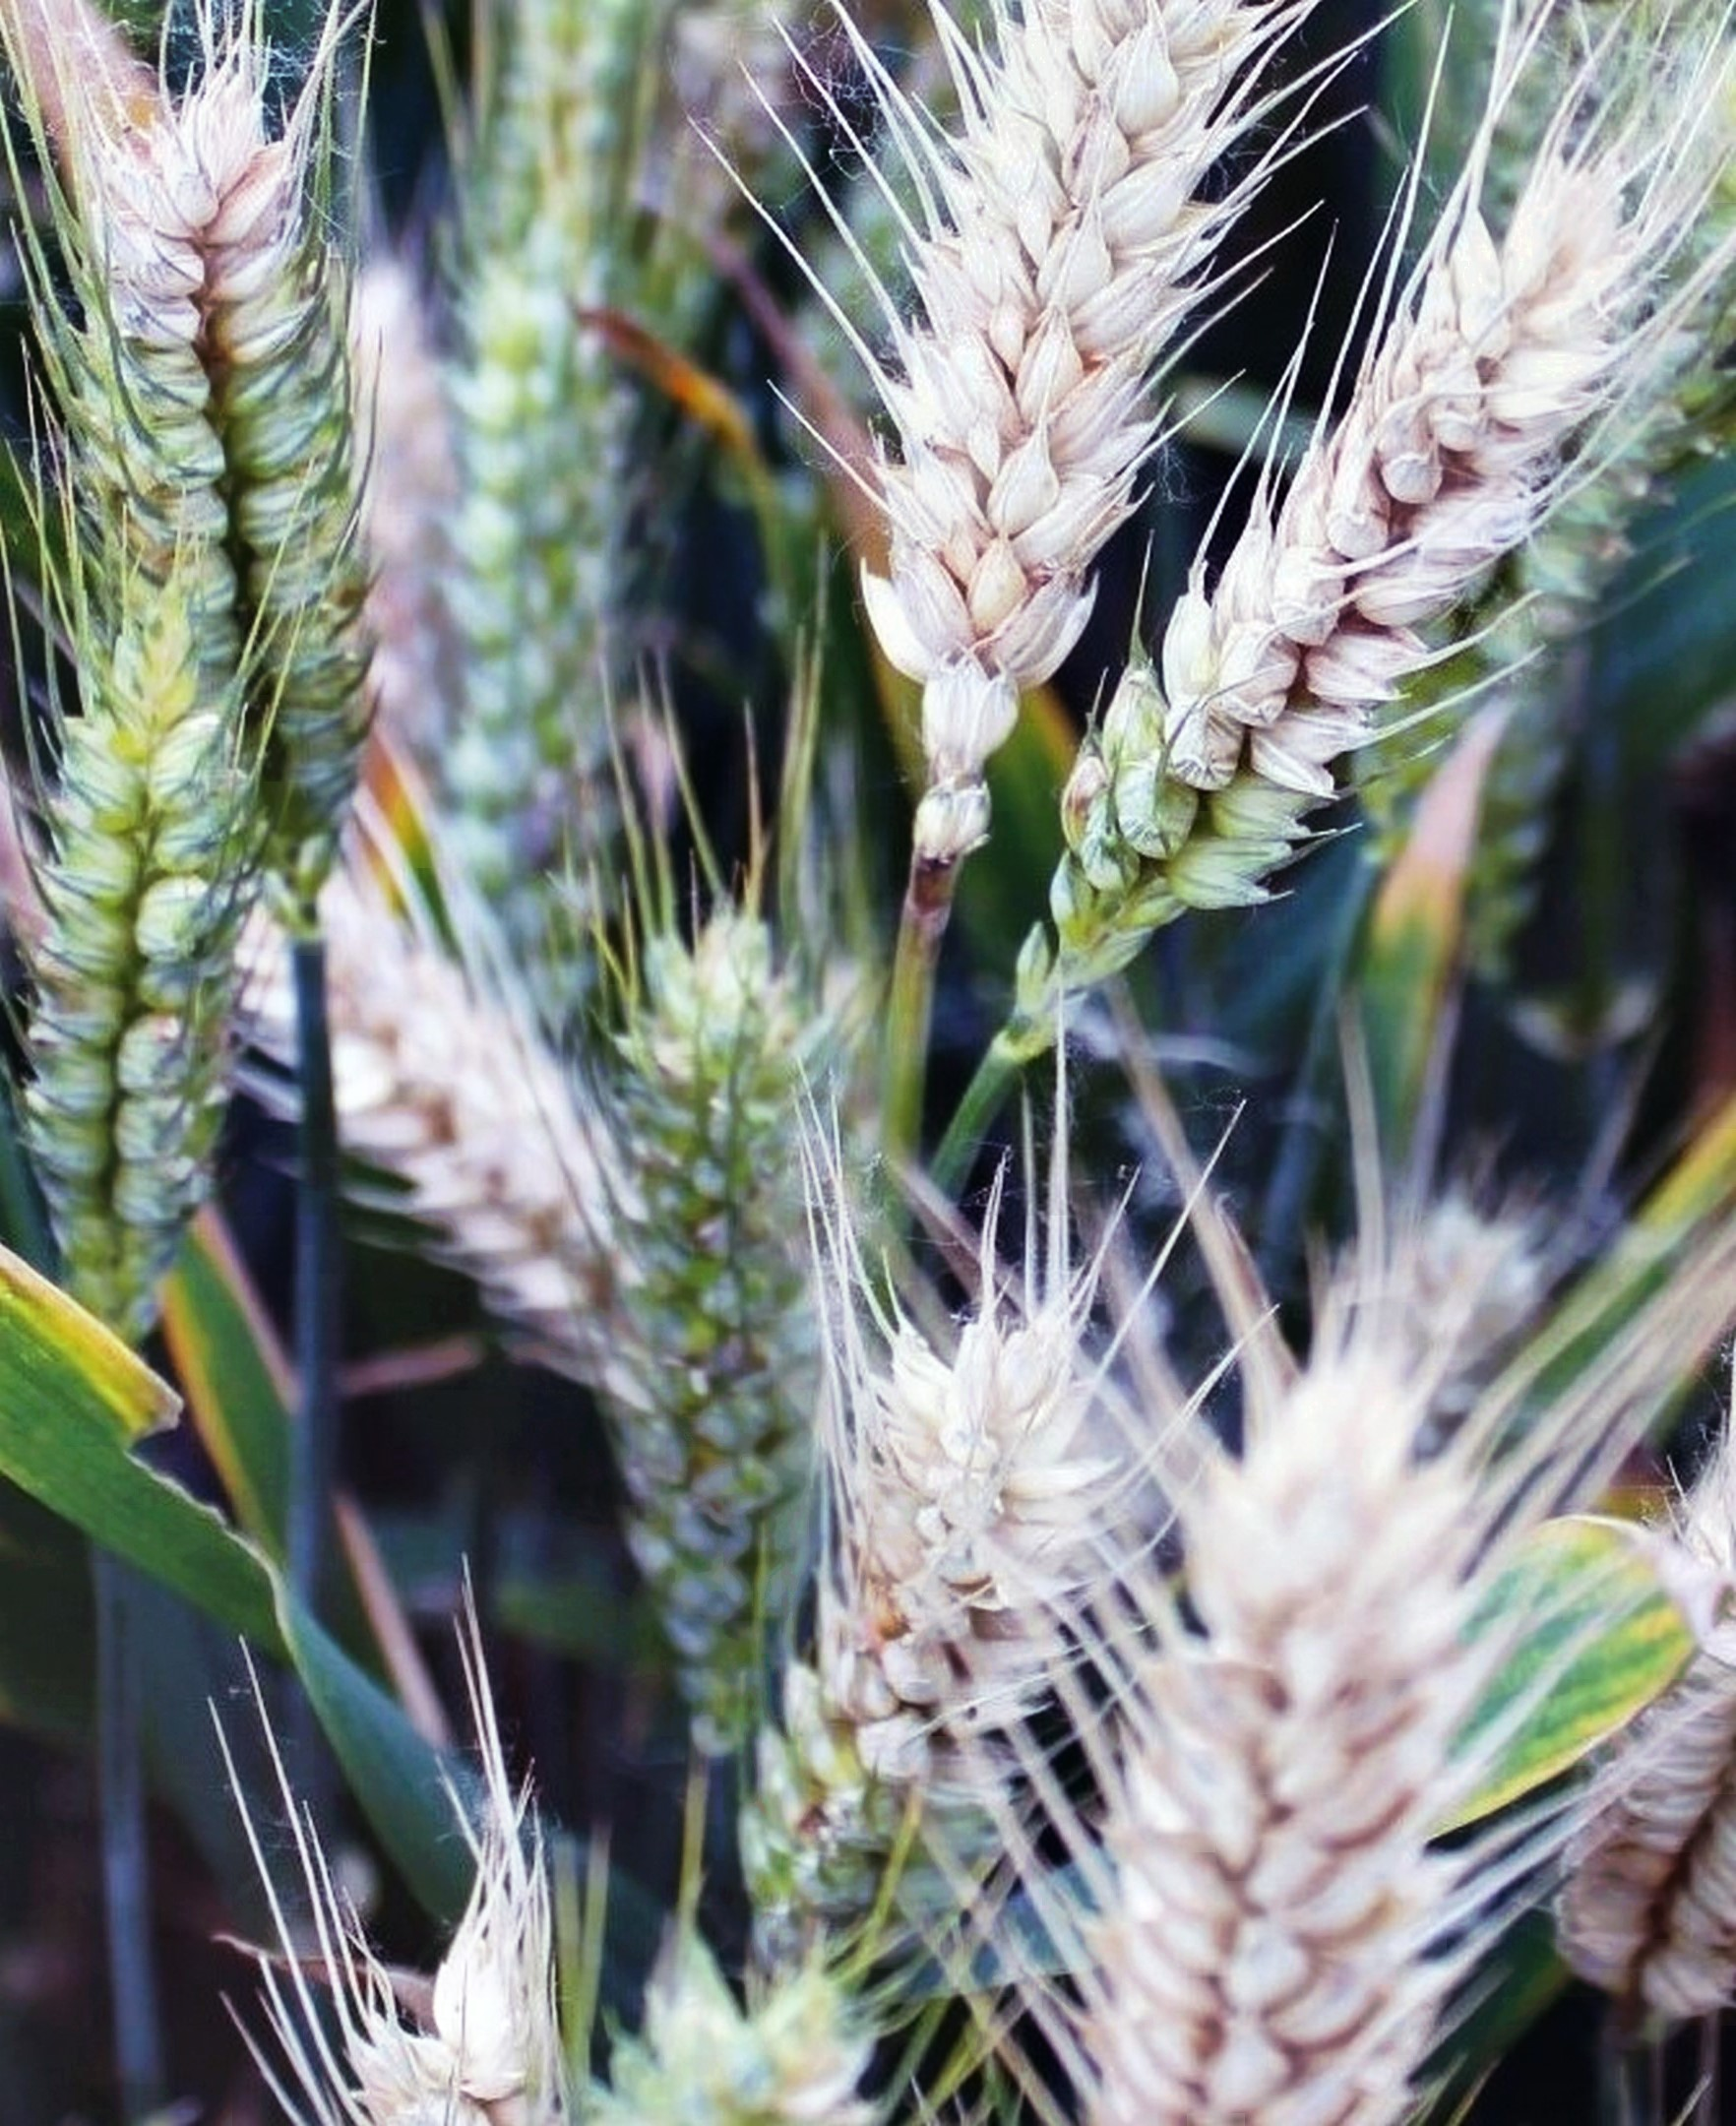Wheat scab: (1028, 178, 1665, 1022), (72, 85, 381, 856), (777, 1340, 1144, 1921)
